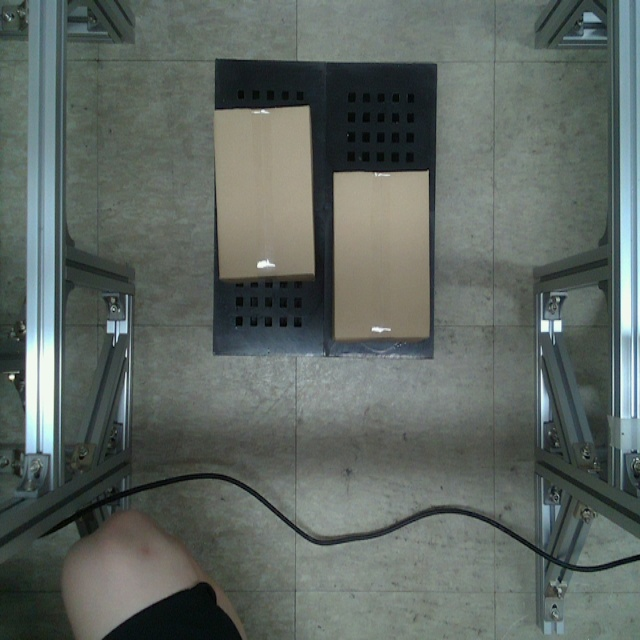box: (214, 104, 315, 281), (331, 167, 431, 344)
